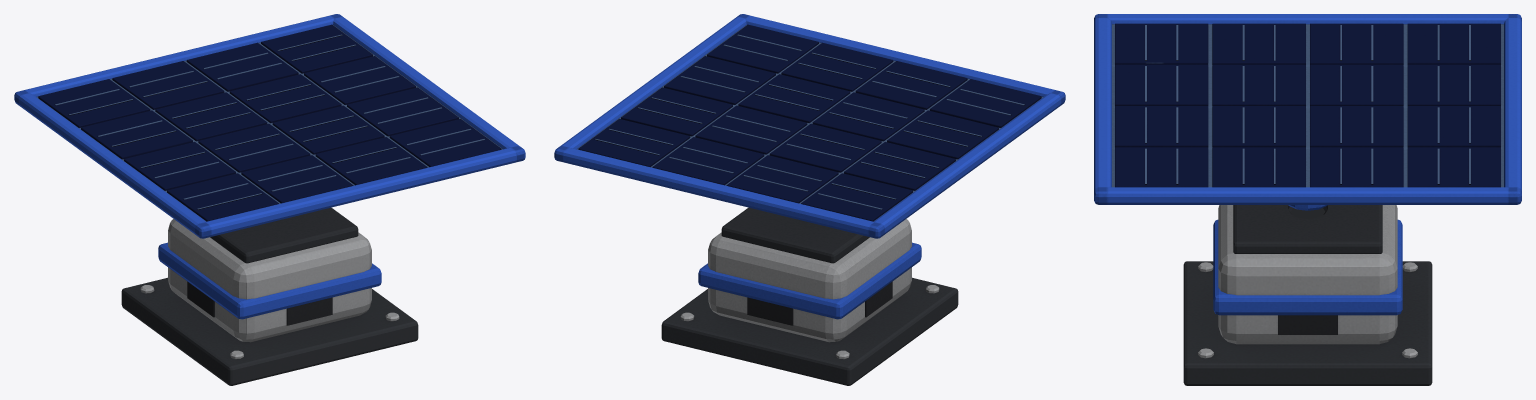
The model's file is SM_Solar.fbx.
The picture shows the model from 3 angles, left to right: view 1: azimuth 30°, elevation 25°; view 2: azimuth 150°, elevation 25°; view 3: azimuth 270°, elevation 25°; orthographic projection. The views are drawn at different scales.
Visible parts, largest first — view 1: Panel, SMT_Solar; view 2: Panel, SMT_Solar; view 3: Panel, SMT_Solar.
Part boxes in pixels (box(x1,y1,x2,y2)): Panel: box(14, 14, 525, 238); SMT_Solar: box(121, 207, 418, 385); Panel: box(554, 14, 1065, 238); SMT_Solar: box(661, 207, 958, 385); Panel: box(1094, 14, 1521, 204); SMT_Solar: box(1183, 205, 1432, 385).
Size of the model in its own units: 0.86 by 0.515 by 0.86.
